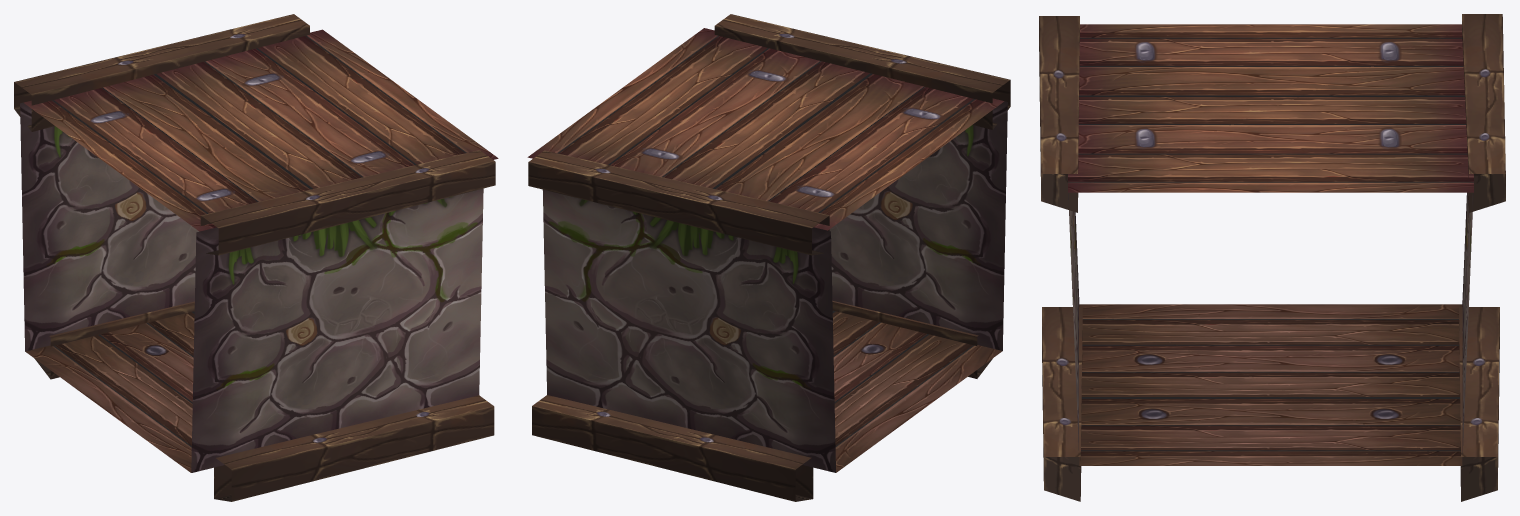
File: small_wall_tile_01.fbx
The picture shows the model from 3 angles, left to right: view 1: azimuth 30°, elevation 25°; view 2: azimuth 150°, elevation 25°; view 3: azimuth 270°, elevation 25°; orthographic projection. The views are drawn at different scales.
Visible parts, largest first — view 1: small_wall_tile_01; view 2: small_wall_tile_01; view 3: small_wall_tile_01.
Part boxes in pixels (x1,y1,x2,y2): small_wall_tile_01: (14, 14, 498, 501); small_wall_tile_01: (527, 14, 1010, 501); small_wall_tile_01: (1039, 14, 1505, 501).
Size of the model in its own units: 6.01 by 5.46 by 6.97.
